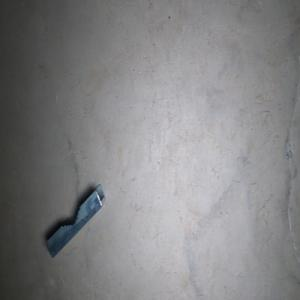ClampPart: (45, 182, 106, 260)
